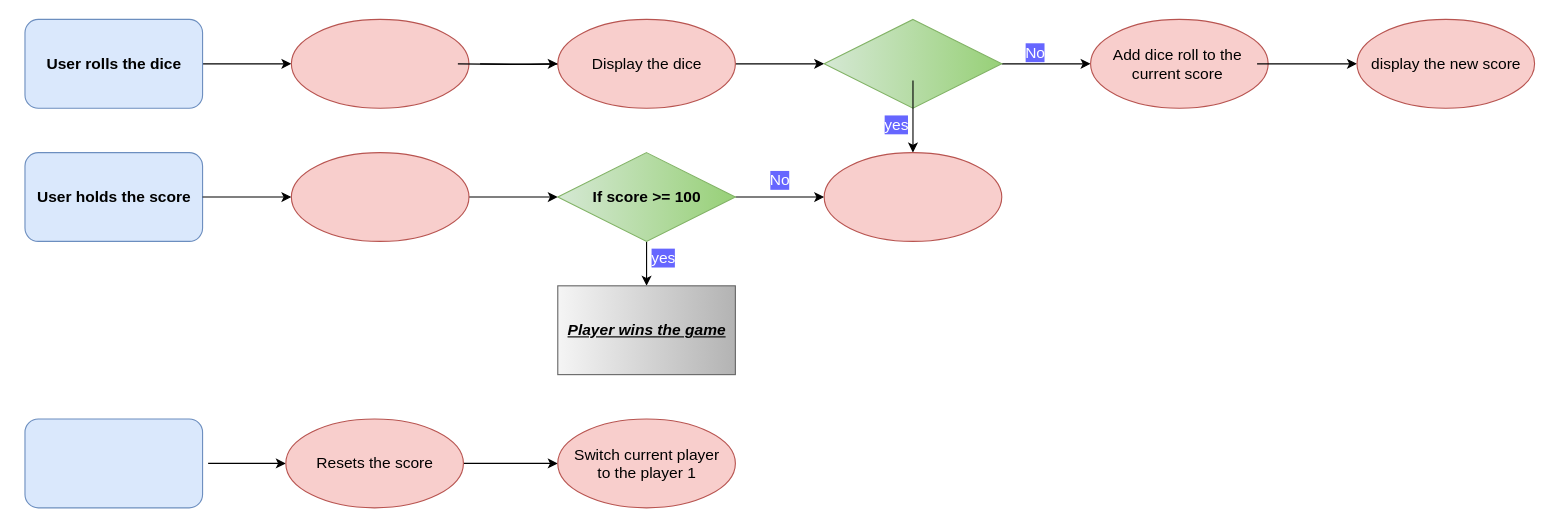
This 1554x527 diagram has some shape labels left out. Each missing label, with the centre of its shape:
"Add current score to the total score" goes at point 379,196.
"Generates random dice" goes at point 379,63.
"Is it 1" goes at point 912,63.
"Switch the player" goes at point 912,196.
"User resets the game" goes at point 113,463.
